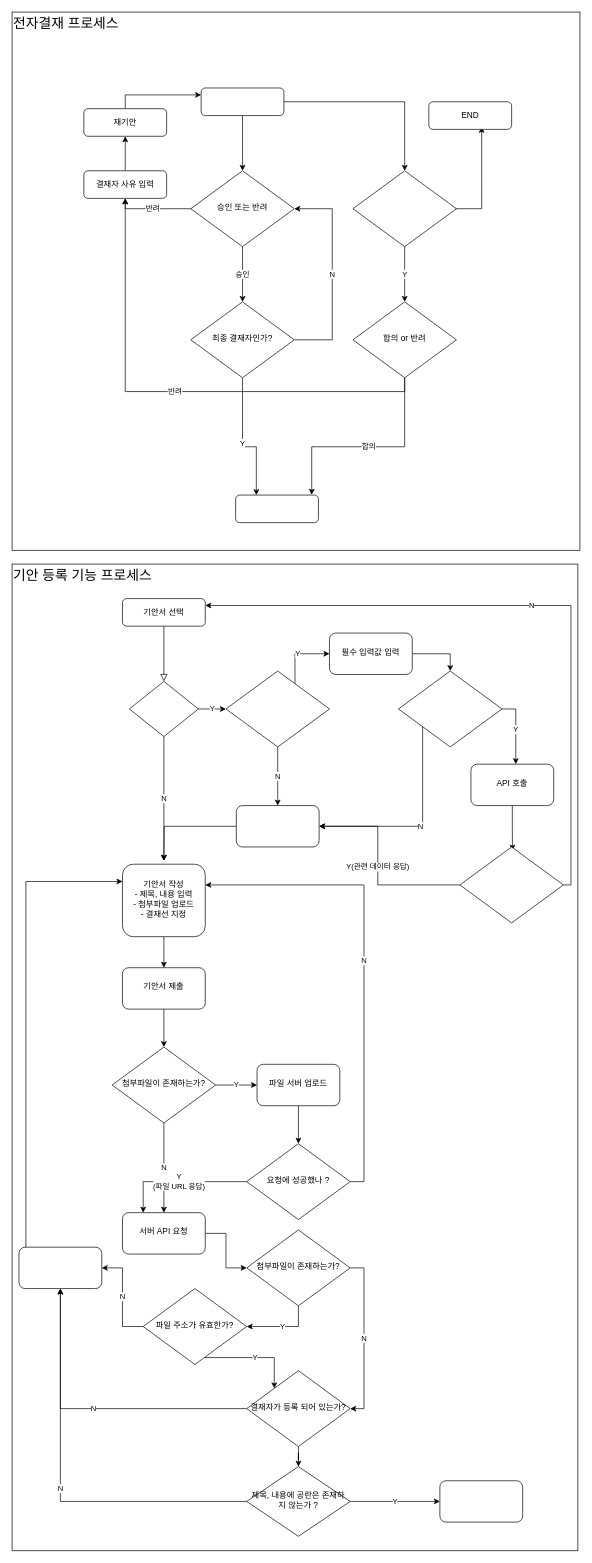
Image size: 592x1563. Some labels were removed from this diagram. The shapes that lost their labels are listed below. From the top down, each one's box as (x1, y1, x2, y2) in pixels, then its label:
(200, 87, 284, 116): 기안 제출
(352, 170, 456, 247): 합의자가 존재하는가?
(235, 494, 318, 523): 최종 승인
(129, 681, 198, 737): 양식을 선택했나?
(225, 670, 329, 747): 양식에 필수 입력 값이 존재하나?(예: 연도 등)
(398, 670, 502, 747): 양식에 관련된 API 호출이 필요한가?
(236, 805, 319, 847): 양식 불러오기
(459, 846, 563, 923): 응답에 성공했나?
(18, 1246, 102, 1289): 실패 응답
(439, 1480, 523, 1522): 결재 문서 등록
